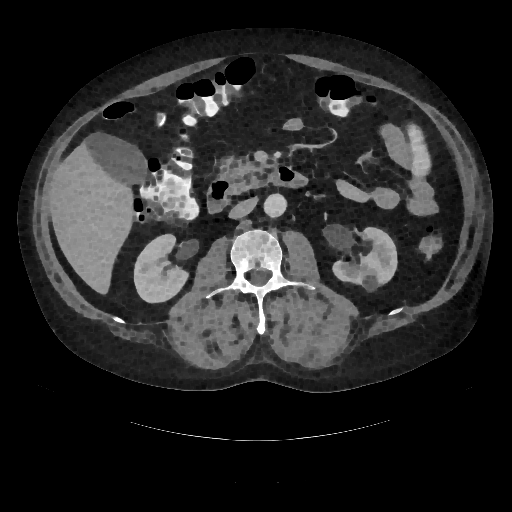Lesion: (360, 270, 381, 294)
